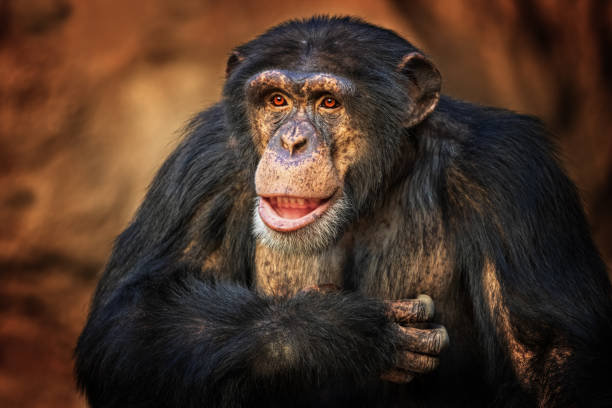chimpanzee: (156, 6, 496, 308)
